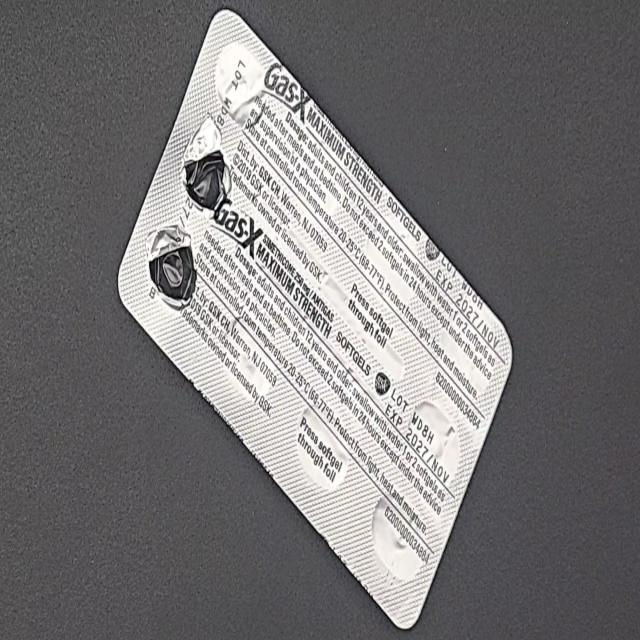defect: (179, 110, 233, 221), (142, 220, 198, 314)
